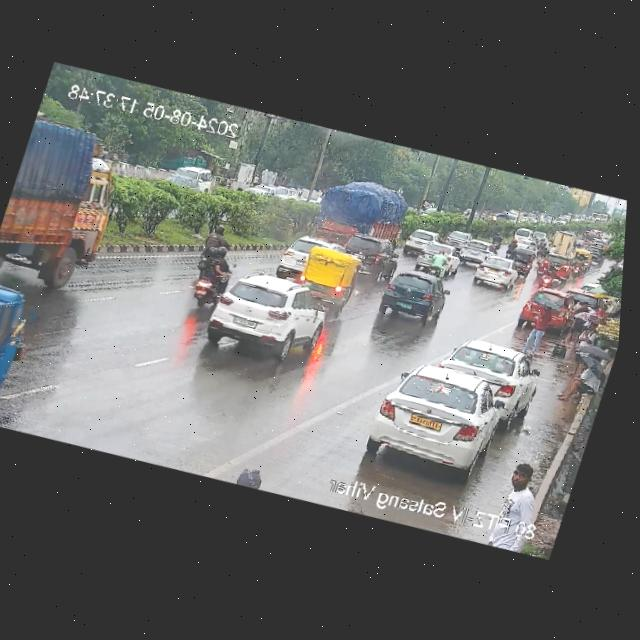car: (355, 351, 529, 487), (189, 265, 328, 371), (433, 330, 543, 413), (0, 275, 36, 422), (373, 264, 453, 327), (289, 238, 364, 302), (509, 278, 576, 335), (337, 230, 404, 283), (266, 225, 324, 281), (154, 158, 210, 203), (469, 256, 523, 294), (396, 224, 445, 258), (503, 246, 539, 277), (454, 245, 493, 268), (507, 226, 542, 250), (507, 232, 540, 253), (441, 228, 472, 250)
motorcycle: (181, 240, 243, 307), (410, 244, 457, 277), (193, 224, 236, 260), (533, 260, 560, 290)
person: (490, 460, 546, 524), (557, 357, 606, 406), (560, 297, 594, 348), (523, 301, 558, 349), (229, 462, 276, 492)
truck: (0, 118, 134, 301), (313, 177, 409, 249), (543, 227, 580, 259)
